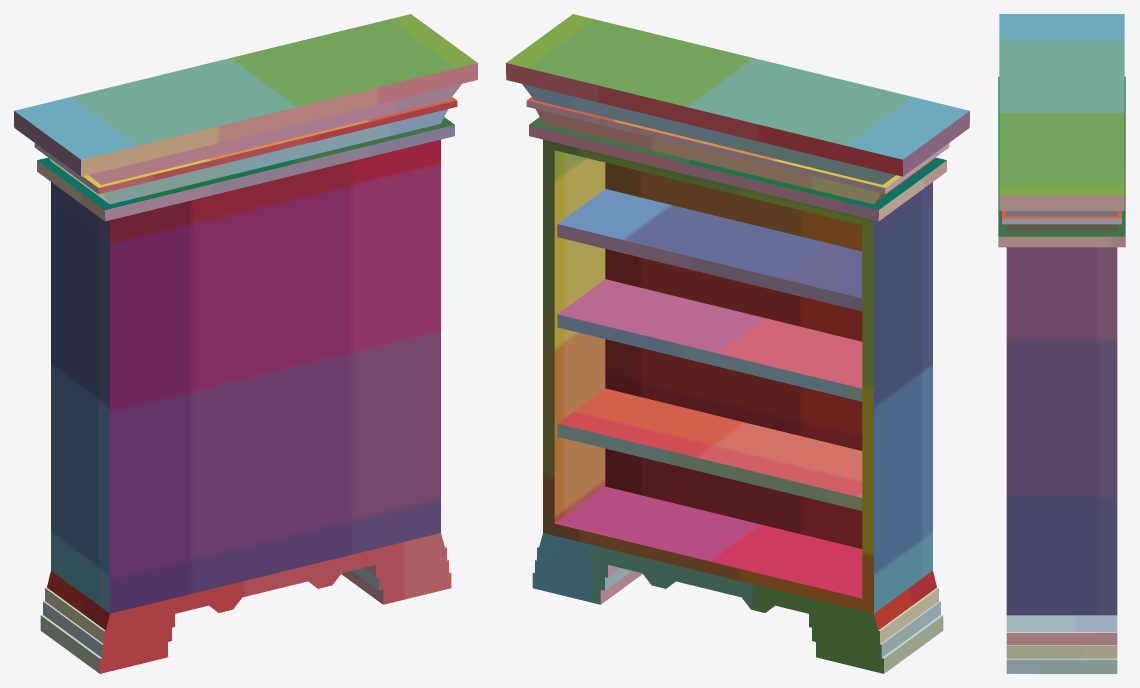
The model's file is shelf.fbx.
3 views of the same model, side by side, from view 1: azimuth 30°, elevation 25°; view 2: azimuth 150°, elevation 25°; view 3: azimuth 270°, elevation 25° (orthographic). The views are drawn at different scales.
Visible parts, largest first — view 1: shelf; view 2: shelf; view 3: shelf.
Part boxes in pixels (box(x1,y1,x2,y2)): shelf: box(14, 14, 477, 673); shelf: box(506, 14, 969, 673); shelf: box(998, 14, 1125, 673).
Size of the model in its own units: 1.69 by 2.12 by 0.5025.
